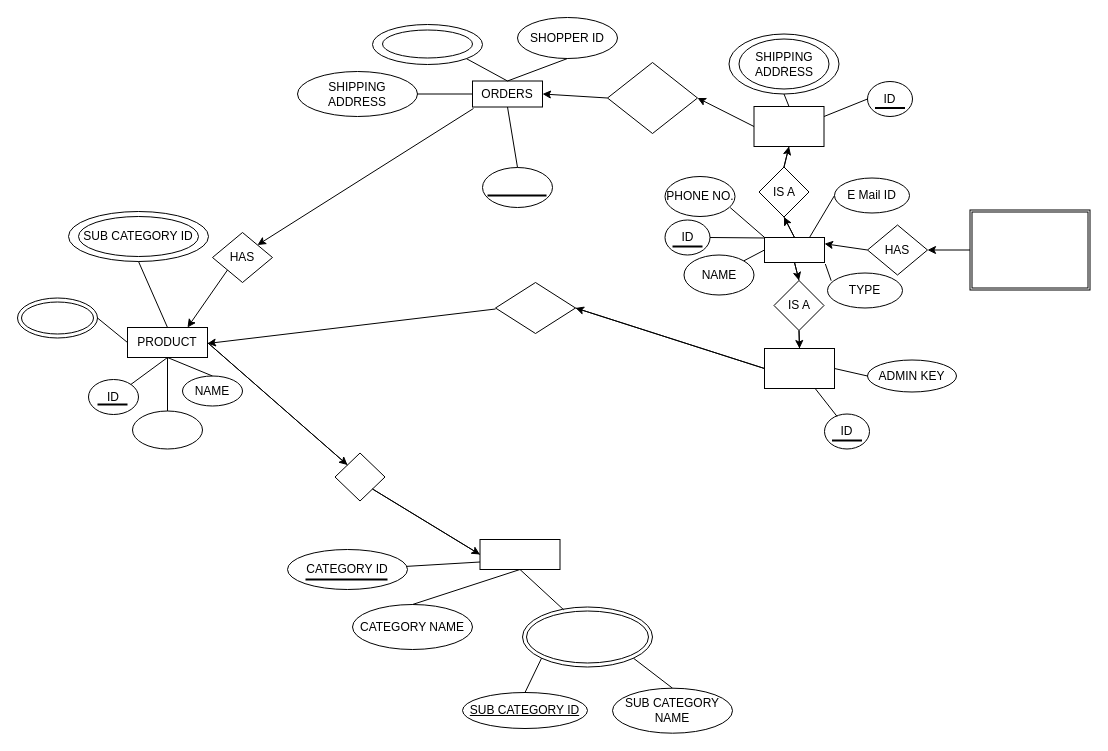
Some shapes in this 1108 by 751 pixel diagram are drawn without their labels. The box of each missing label's shape, as (x1, y1, x2, y2) in pixels:
ADMIN: (764, 348, 834, 388)
CATEGORY: (479, 538, 560, 570)
HAS A: (334, 452, 385, 501)
IMAGES: (16, 297, 98, 338)
MANAGES: (494, 282, 576, 334)
MANAGES AN: (606, 62, 698, 134)
ORDER ID: (482, 166, 552, 208)
PRODUCT ID: (382, 29, 472, 58)
SHOPPER: (753, 106, 824, 146)
STOCK: (132, 410, 202, 449)
STORE FRONT: (969, 209, 1090, 290)
SUB CATEGORY: (522, 606, 652, 667)
USER: (764, 236, 824, 262)
